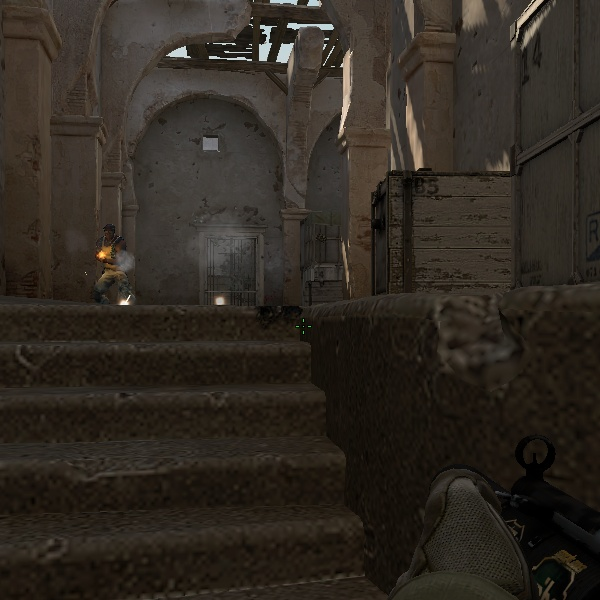t_body: (84, 223, 137, 305)
t_head: (102, 222, 118, 242)
